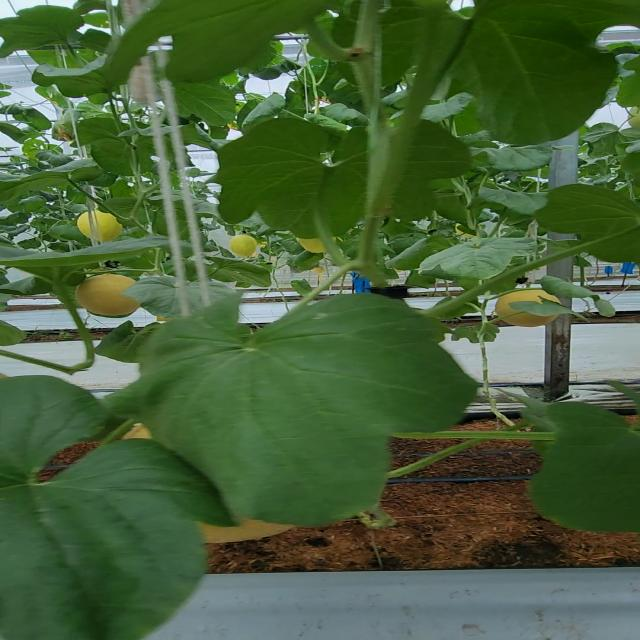Rear-melon: (78, 272, 134, 312), (76, 212, 120, 242), (227, 234, 257, 254)
